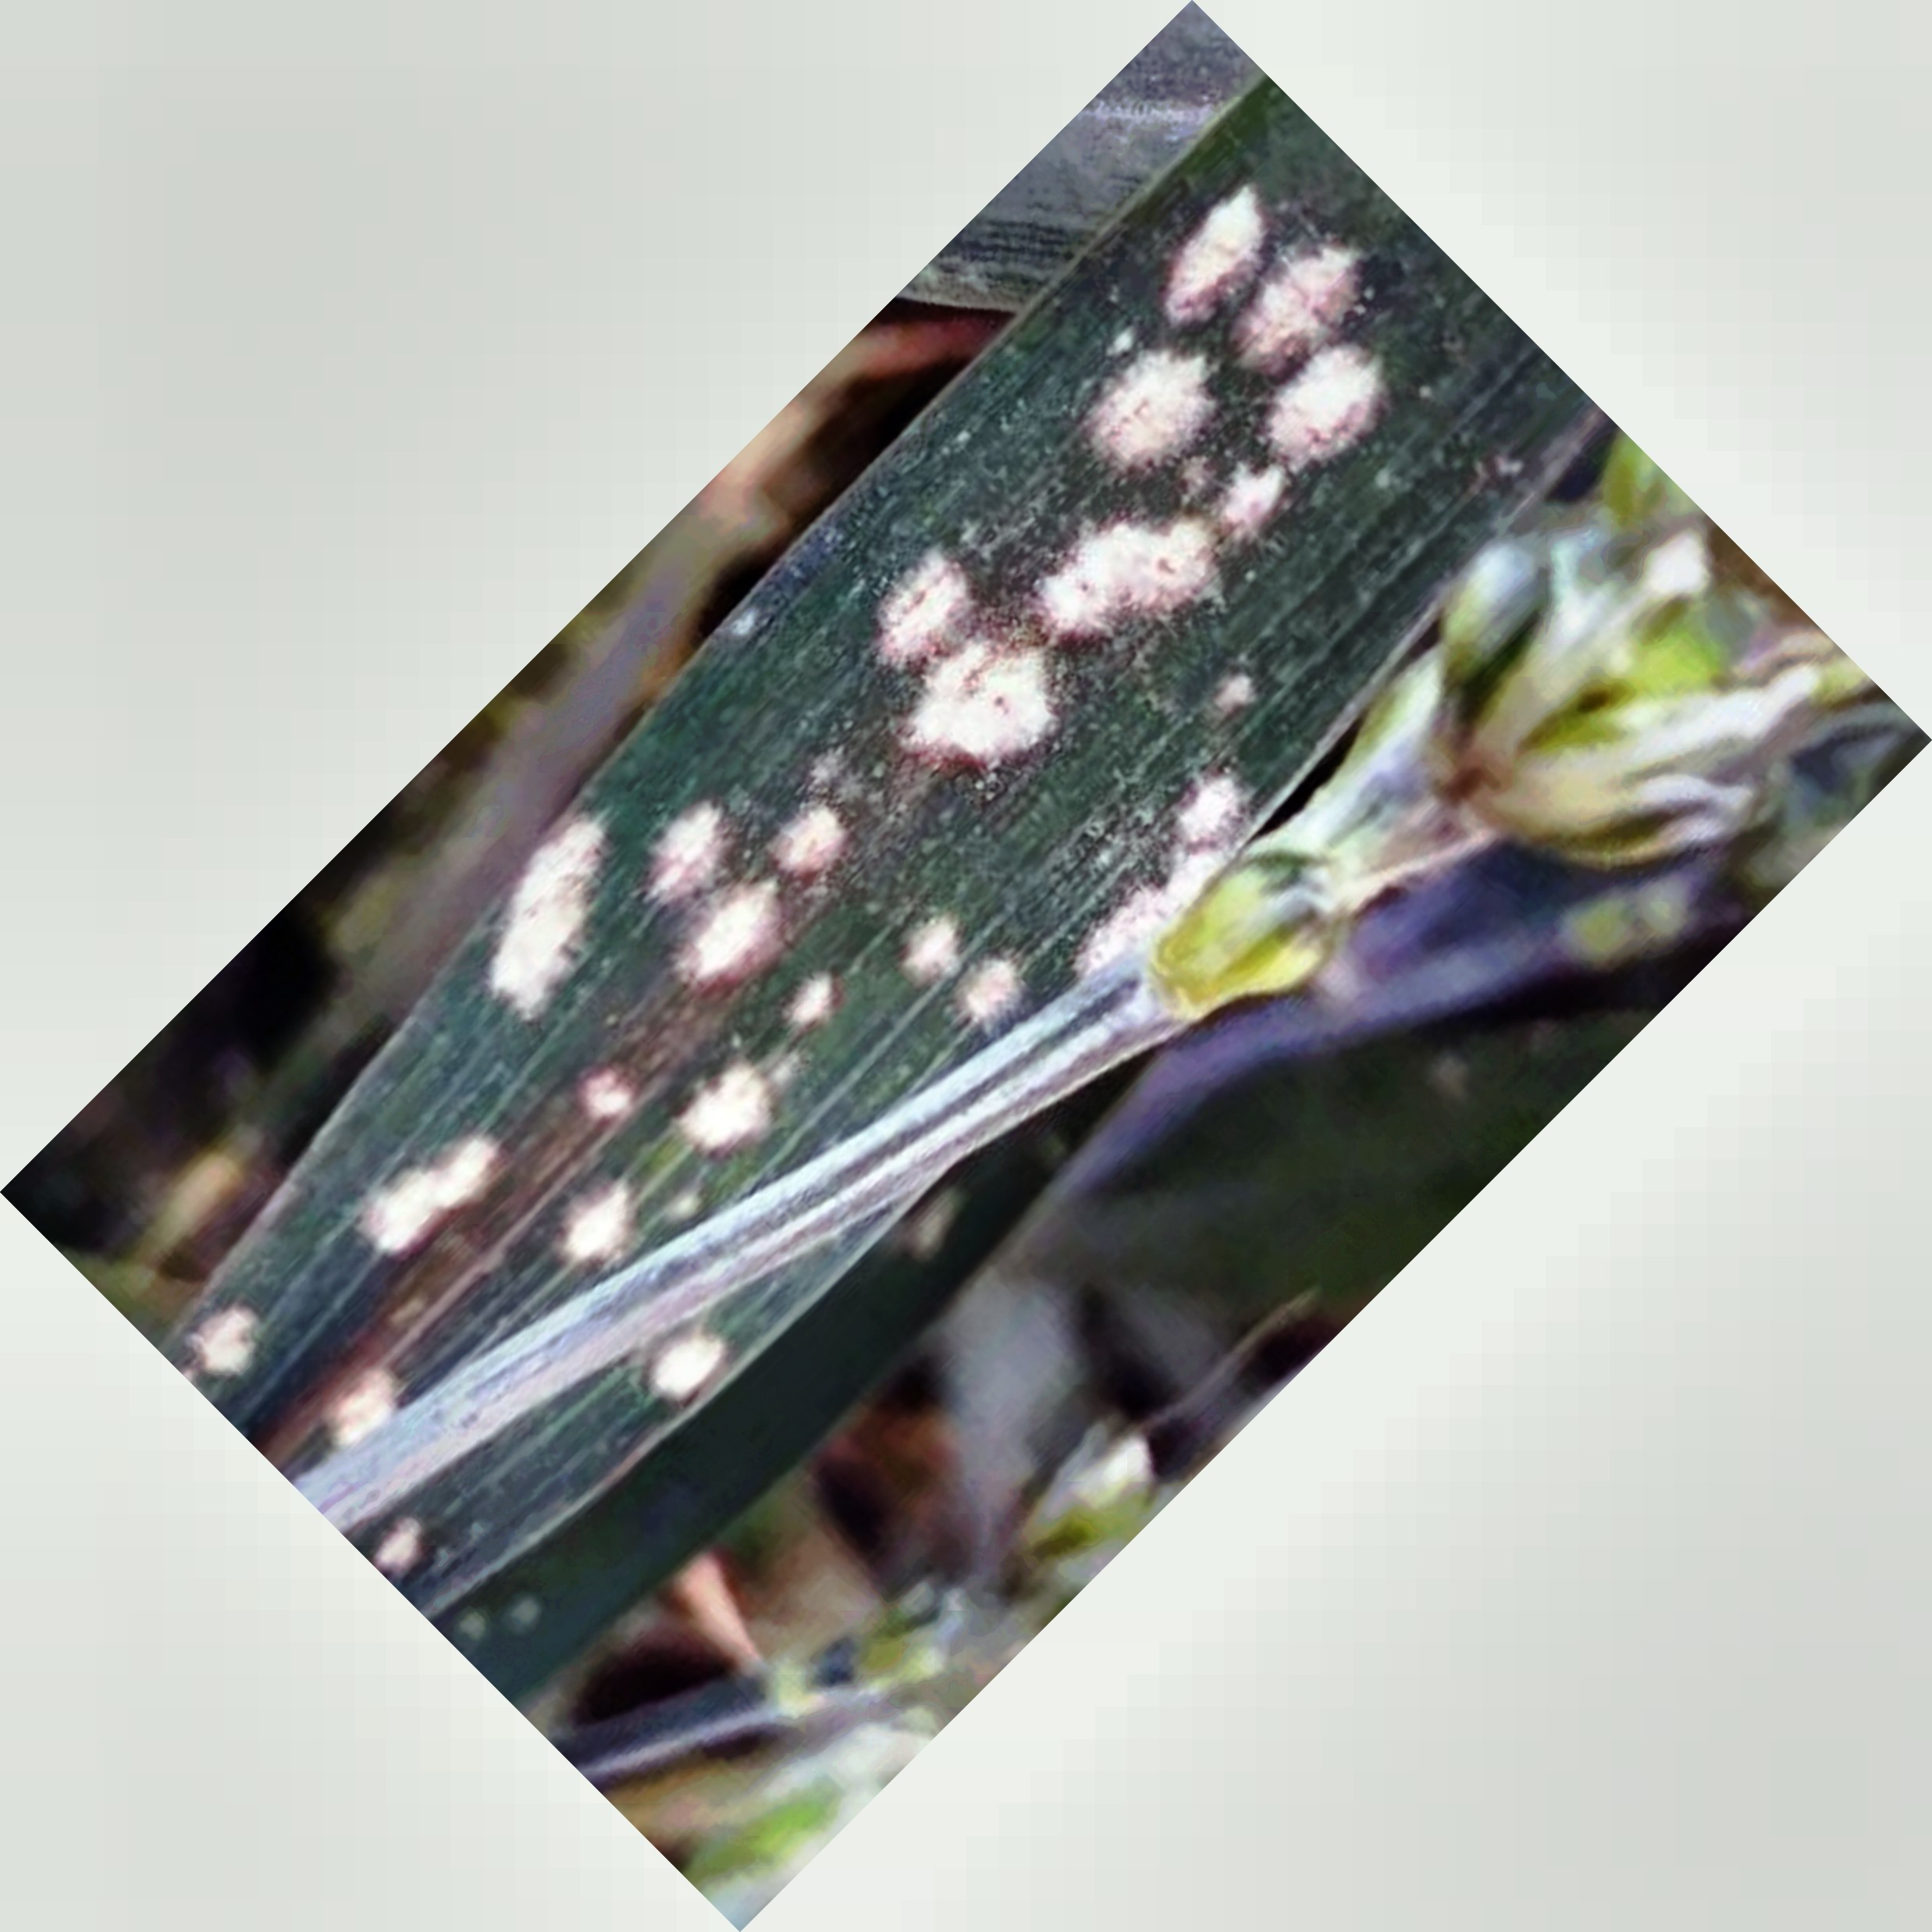Powdery Mildew: (320, 207, 1368, 1361)
